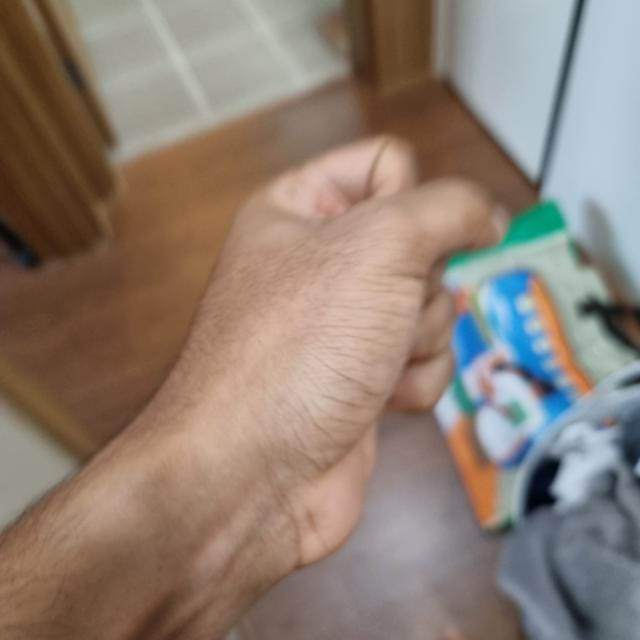Rock: (128, 129, 492, 622)
